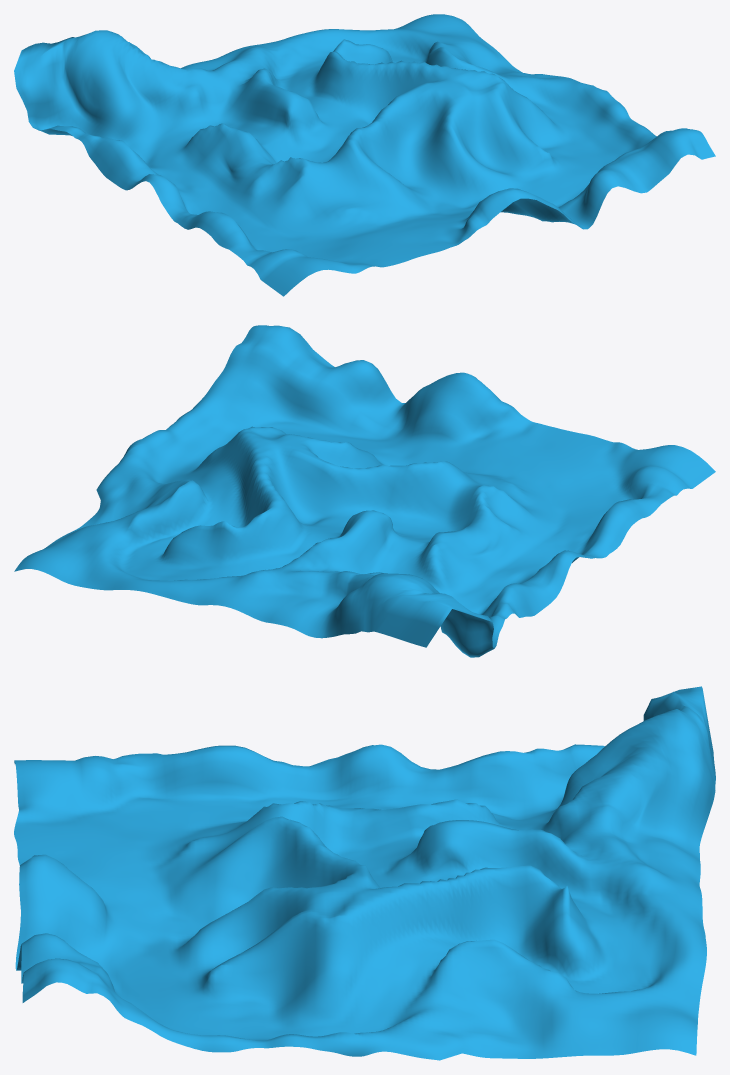
File: water.gltf
3 renders of one model, top to bottom at view 1: azimuth 30°, elevation 25°; view 2: azimuth 150°, elevation 25°; view 3: azimuth 270°, elevation 25°, orthographic. The views are drawn at different scales.
Visible parts, largest first — view 1: Landscape.004; view 2: Landscape.004; view 3: Landscape.004.
Part boxes in pixels (left/top/right/bottom): Landscape.004: left=14, top=14, right=715, bottom=296; Landscape.004: left=14, top=325, right=715, bottom=657; Landscape.004: left=14, top=686, right=715, bottom=1060.
Size of the model in its own units: 21.12 by 3.51 by 20.47.
